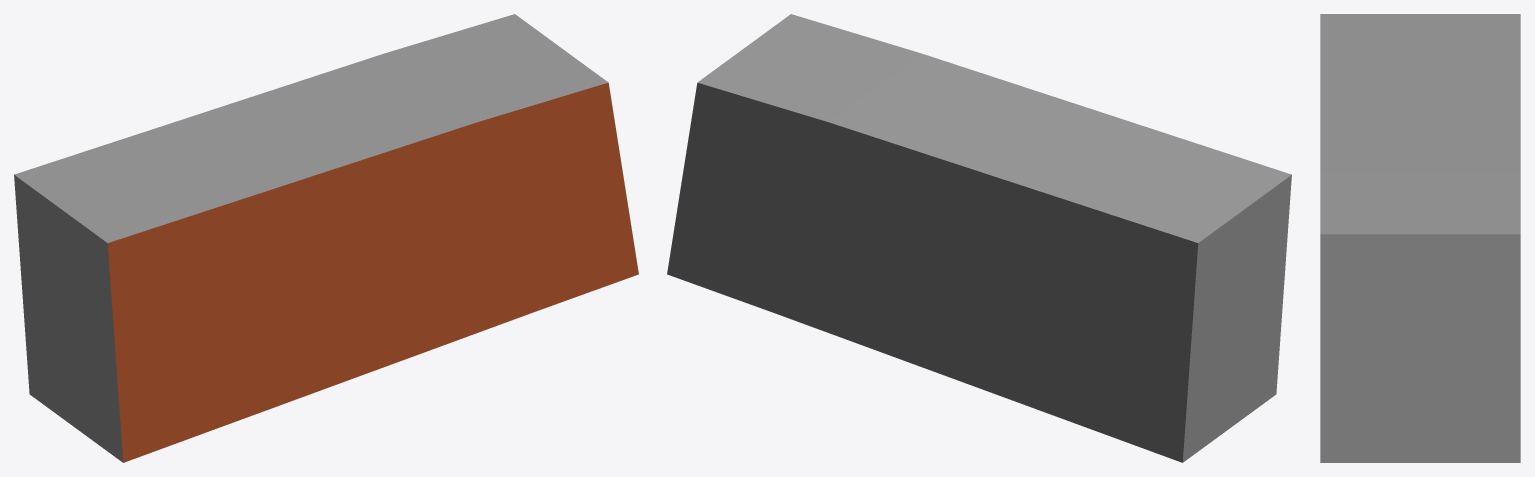
File: construction_4142_assumed_A_Casa_h6m.obj
The picture shows the model from 3 angles, left to right: view 1: azimuth 30°, elevation 25°; view 2: azimuth 150°, elevation 25°; view 3: azimuth 270°, elevation 25°; orthographic projection. The views are drawn at different scales.
Visible parts, largest first — view 1: construction_4142_assumed_A_Casa; view 2: construction_4142_assumed_A_Casa; view 3: construction_4142_assumed_A_Casa.
Boxes of the visible parts, box(x1,y1,x2,y2) form: construction_4142_assumed_A_Casa: box(14, 14, 638, 462); construction_4142_assumed_A_Casa: box(667, 14, 1291, 462); construction_4142_assumed_A_Casa: box(1320, 14, 1520, 462).
Bounding box in the file's own units: 19.64 × 9.25 × 6.
